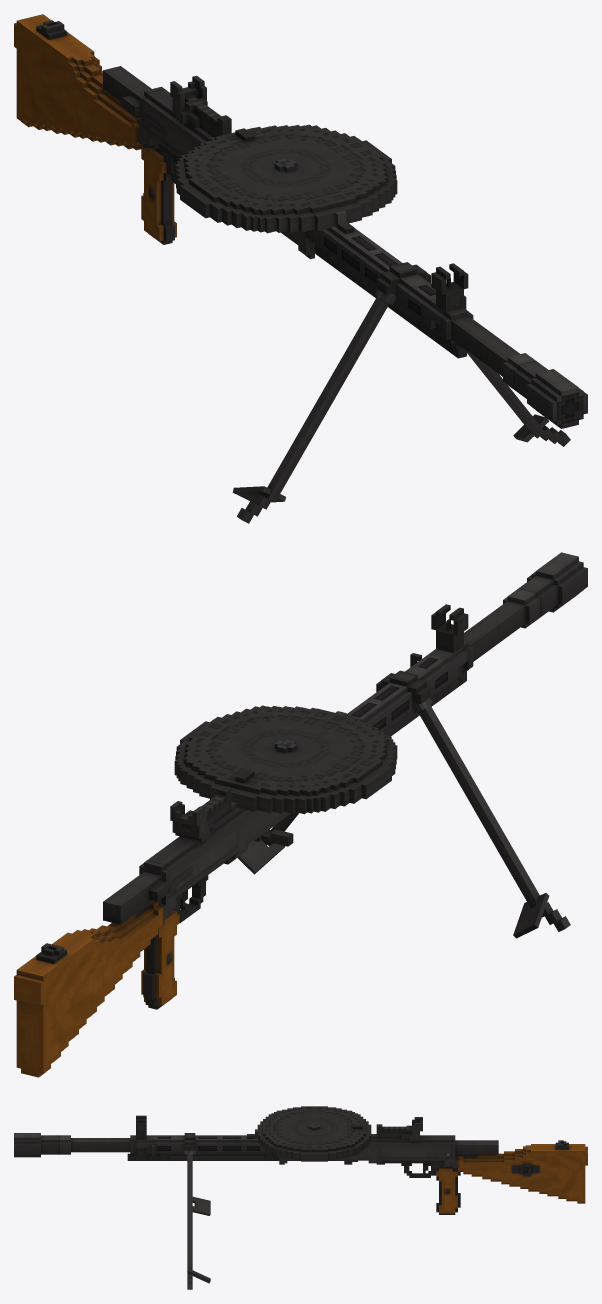
File: RD_DPM.glb
The picture shows the model from 3 angles, top to bottom: view 1: azimuth 30°, elevation 25°; view 2: azimuth 150°, elevation 25°; view 3: azimuth 270°, elevation 25°; orthographic projection. The views are drawn at different scales.
Parts seen in each view (by area): view 1: DPM, DPM_CLIP_COVER, DPM_CLIP, DPM_DIPOD_LEG1, DPM_DIPOD_LEG2; view 2: DPM, DPM_CLIP_COVER, DPM_CLIP, DPM_DIPOD_LEG1, DPM_DIPOD_LEG2; view 3: DPM, DPM_CLIP_COVER, DPM_CLIP, DPM_DIPOD_LEG2, DPM_DIPOD_LEG1.
Part boxes in pixels (bbox=[...]): DPM: bbox=[14, 14, 587, 428]; DPM_CLIP_COVER: bbox=[183, 124, 388, 215]; DPM_CLIP: bbox=[174, 125, 397, 233]; DPM_DIPOD_LEG1: bbox=[232, 289, 395, 523]; DPM_DIPOD_LEG2: bbox=[467, 351, 570, 446]; DPM: bbox=[14, 552, 587, 1077]; DPM_CLIP_COVER: bbox=[183, 705, 388, 796]; DPM_CLIP: bbox=[174, 706, 397, 814]; DPM_DIPOD_LEG1: bbox=[412, 697, 570, 938]; DPM_DIPOD_LEG2: bbox=[237, 812, 298, 874]; DPM: bbox=[14, 1115, 587, 1214]; DPM_CLIP_COVER: bbox=[263, 1106, 365, 1151]; DPM_CLIP: bbox=[255, 1113, 371, 1161]; DPM_DIPOD_LEG2: bbox=[184, 1150, 210, 1289]; DPM_DIPOD_LEG1: bbox=[192, 1196, 210, 1215].
Bounding box in the file's own units: 0.7304 × 0.5285 × 2.09.
1 material, 1 textured.
